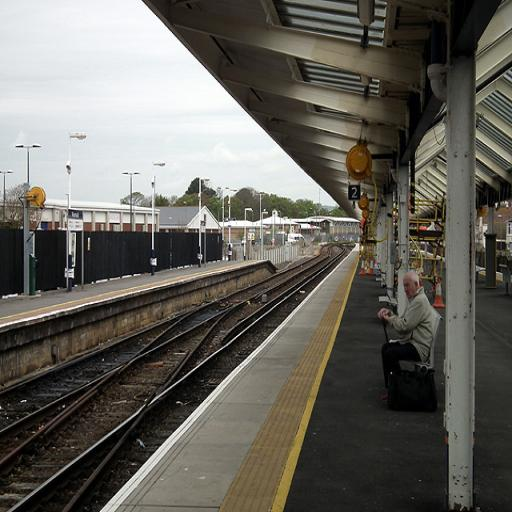platform_edge: (110, 271, 356, 512)
